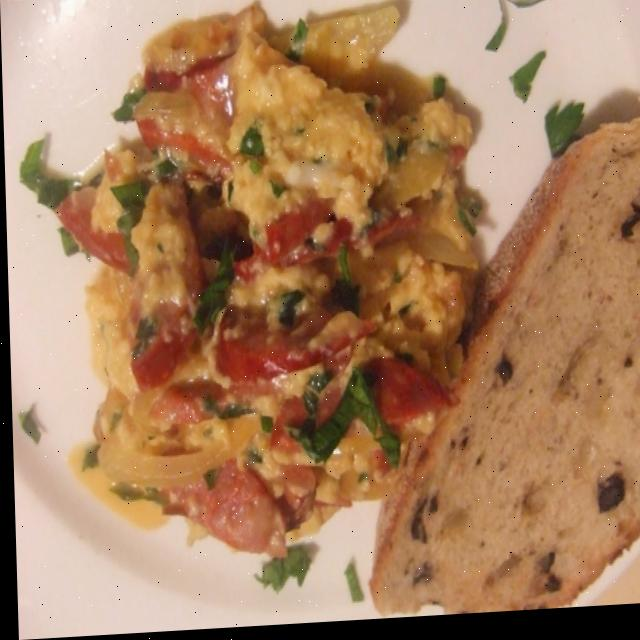鸡蛋料理: (33, 3, 640, 639)
